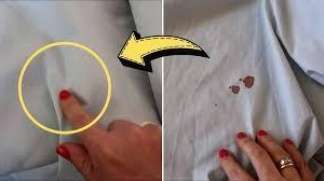blood: (231, 75, 255, 95)
